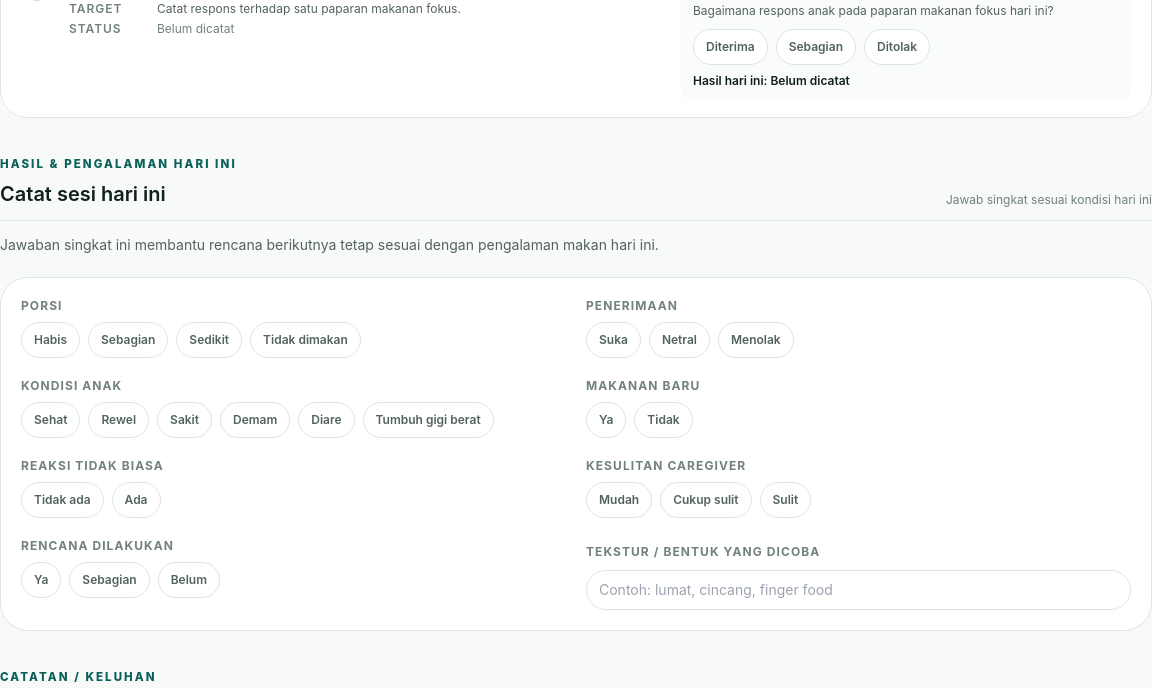
nutrition guided program UX/state › renders the adaptive quick daily log with fast caregiver inputs
(page scrolled)
Check: the heading "Catat sesi hari ini" is shown, box [0,182,166,206]
Click the button "Sebagian" below "Porsi" at (128, 340), box [88,322,168,358]
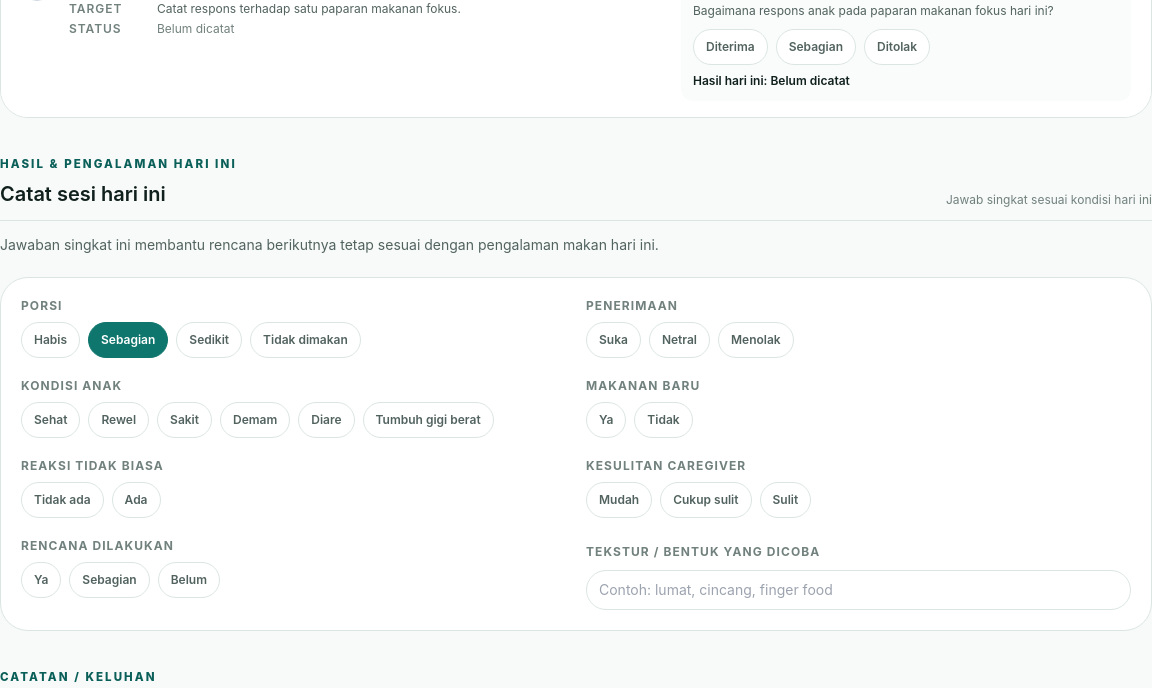
Check: the button "Sebagian" below "Porsi" is pressed, box [88,322,168,358]
Click the button "Suka" at (613, 340), box [586,322,641,358]
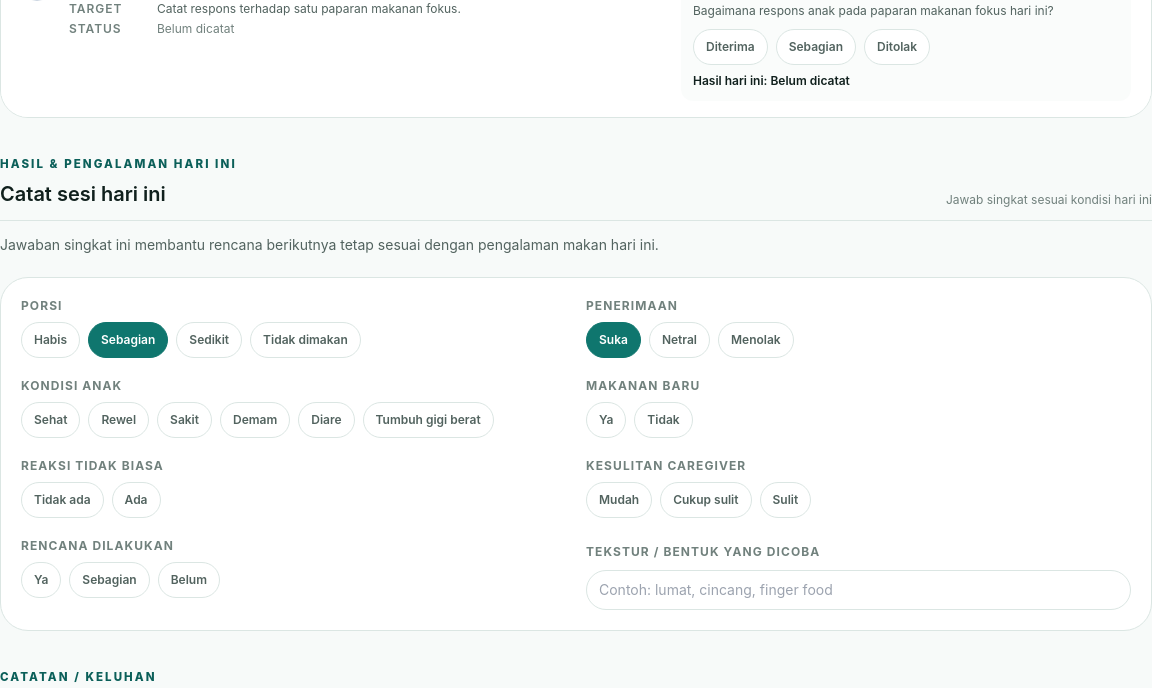
Check: the element named "Kondisi anak" is shown, box [21,402,566,438]
Check: the button "Suka" is pressed, box [586,322,641,358]
Click the button "Ada" at (136, 500), box [112,482,160,518]
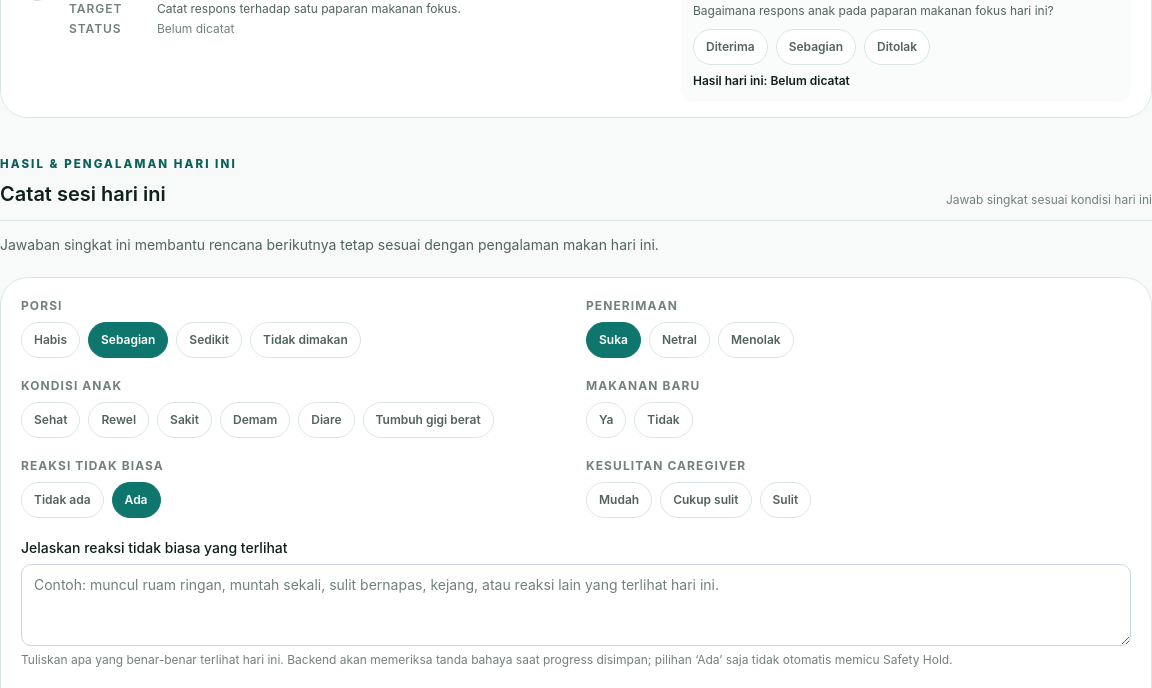
Check: the text box labelled "Jelaskan reaksi tidak biasa yang terlihat" is shown
Replace the text in the text box labelled "Jelaskan reaksi tidak biasa yang terlihat" with "muncul ruam ringan" at (576, 605), box [21,564,1131,646]
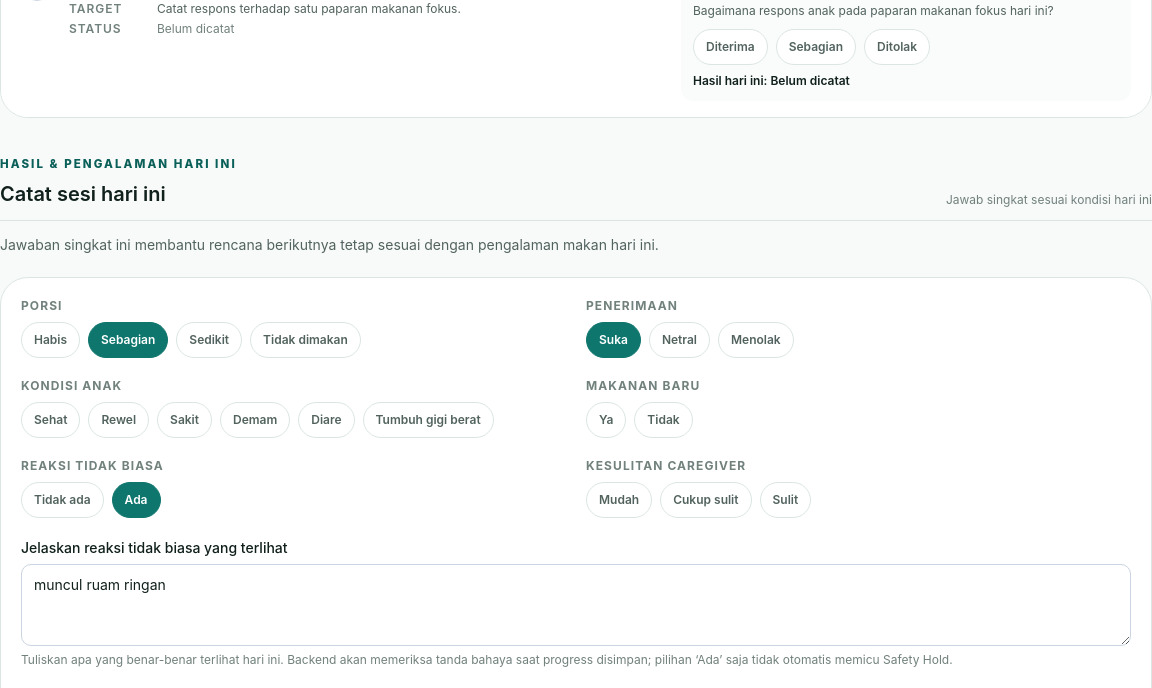
Click the button "Tidak ada" at (62, 500), box [21,482,104,518]
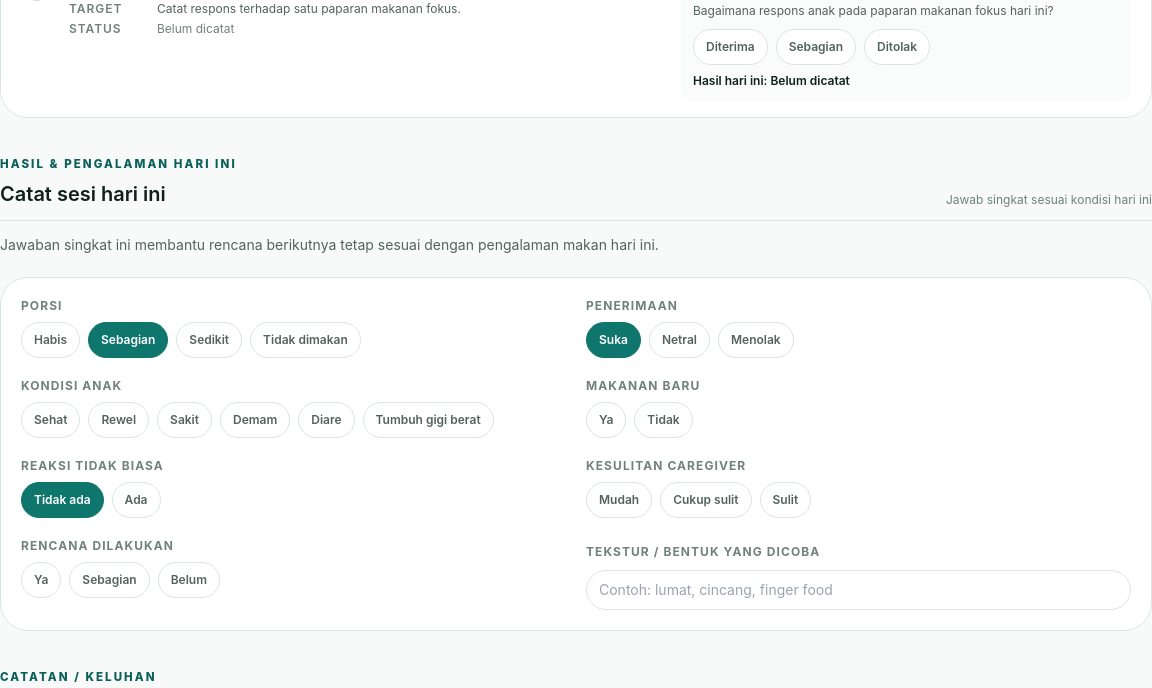
Check: the label labelled "Jelaskan reaksi tidak biasa" is gone
